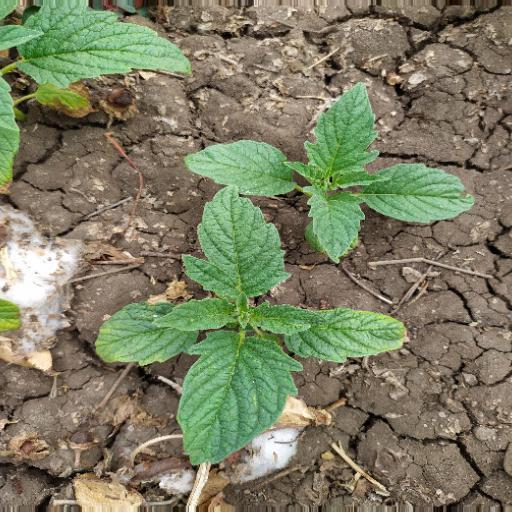crop: (92, 185, 405, 463), (175, 80, 476, 259), (1, 1, 186, 151)
